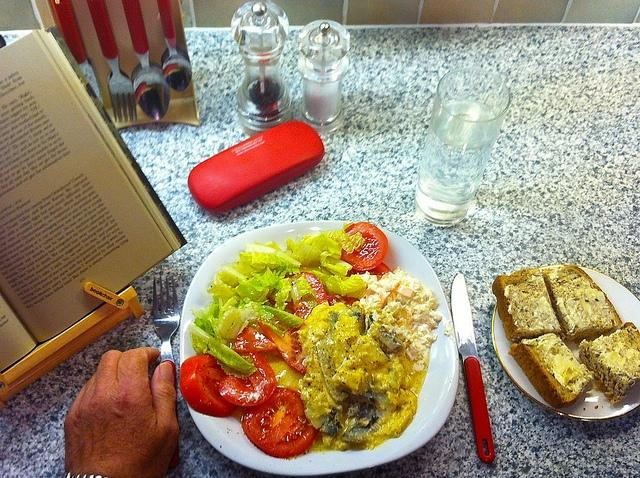tomato: (241, 386, 319, 458), (180, 354, 238, 417), (218, 352, 276, 407), (258, 322, 306, 375), (341, 222, 388, 271), (234, 325, 278, 353), (346, 262, 391, 282), (302, 272, 328, 303), (326, 291, 358, 306)
